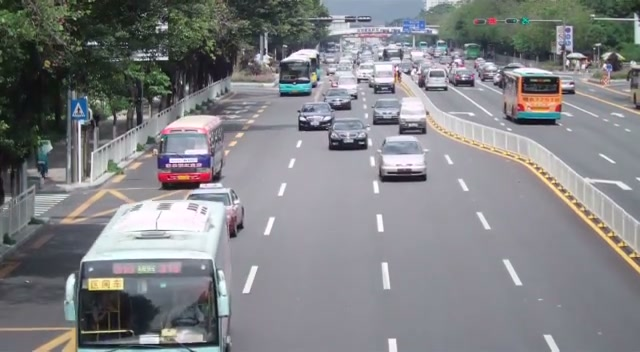bus: (66, 194, 232, 352), (155, 114, 225, 188), (502, 66, 563, 124), (279, 51, 315, 96)
car: (185, 188, 245, 238), (376, 135, 428, 182), (328, 118, 368, 150), (398, 97, 427, 135), (297, 102, 334, 131), (373, 97, 402, 125), (423, 68, 448, 92), (324, 89, 352, 110), (450, 68, 476, 86), (481, 64, 499, 81), (560, 78, 576, 94)
pedestrian: (601, 62, 612, 85)
truck: (369, 62, 395, 93)
